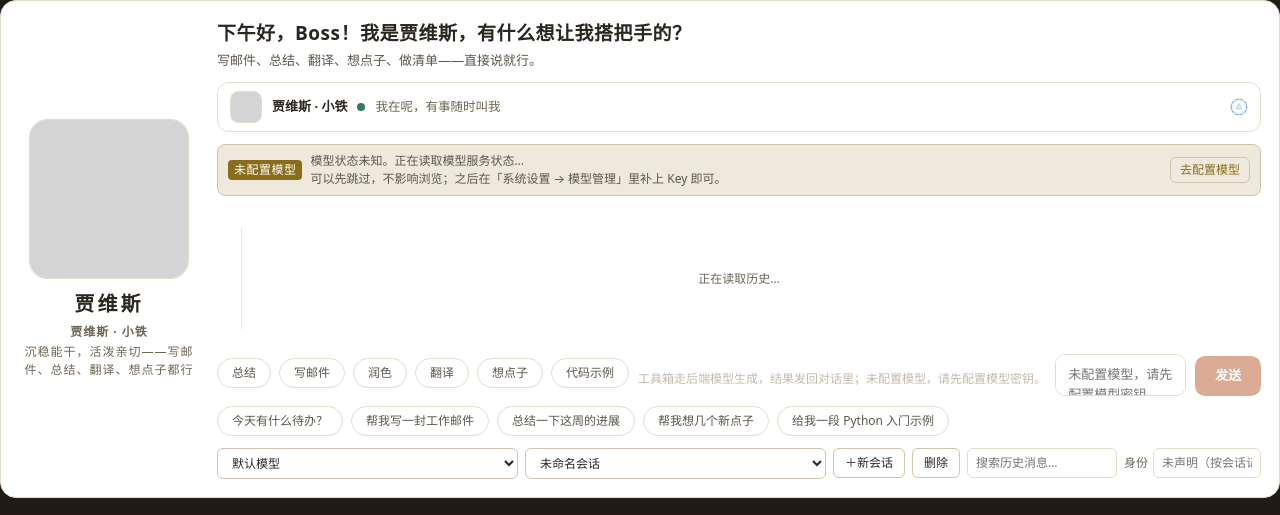
Test: ChatPanel 结束帧 › 物理 403（权限拒绝）只说权限不足，不出现预算的两个按钮
The image size is (1280, 515).
Type "你好" into the text box with placeholder "未配置模型，请先配置模型密钥" at [1121, 375], box [1055,354,1186,396]
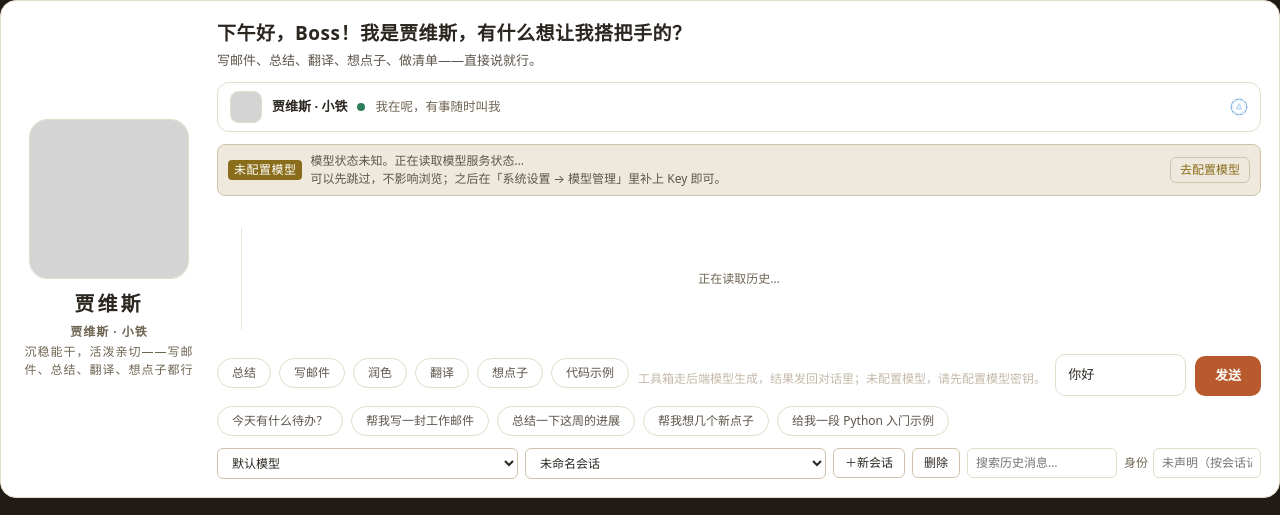
Click the button "发送" at [1228, 376], box [1195,356,1261,396]
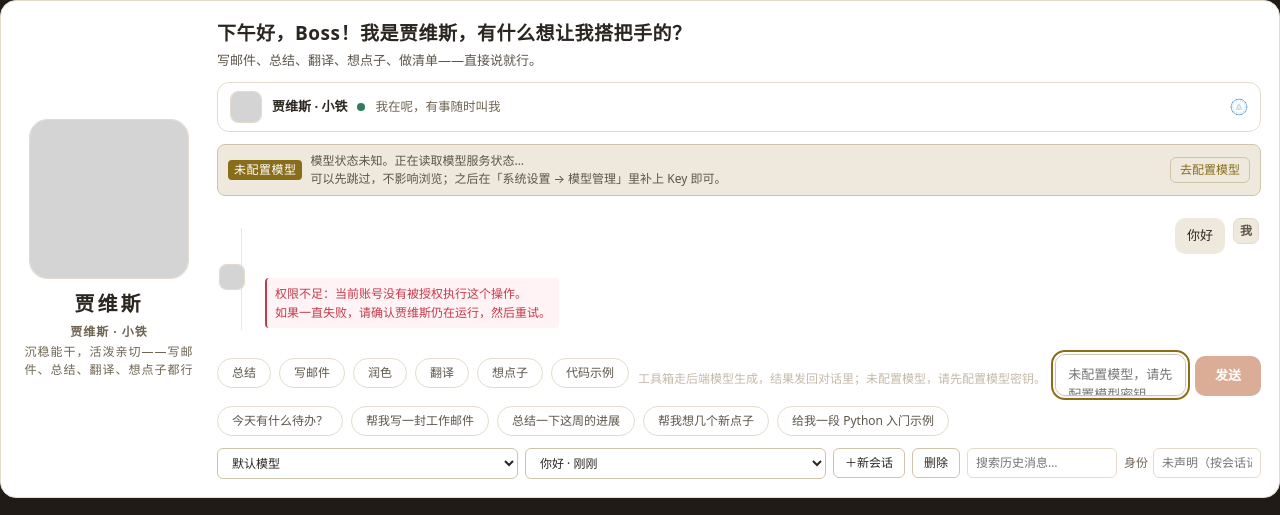
Now the text "权限不足：当前账号没有被授权执行这个操作。" is shown, box [275,284,551,303]
Now the text "当前账号没有被授权执行这个操作" is shown, box [275,284,527,302]
